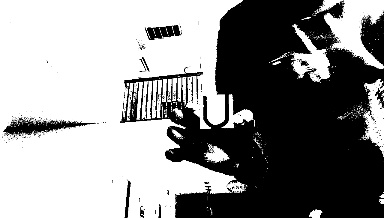U: (197, 93, 232, 128)
